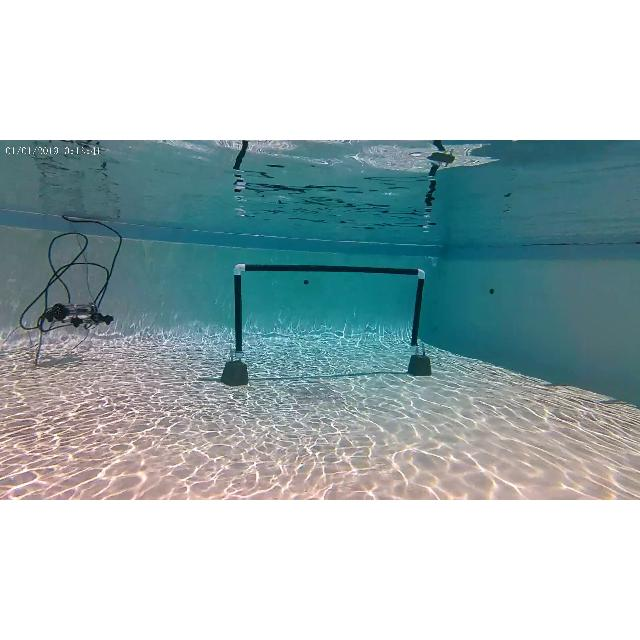prequal gate: (234, 264, 426, 360)
prequal gate leg l: (219, 264, 253, 388)
prequal gate leg r: (404, 262, 434, 378)
